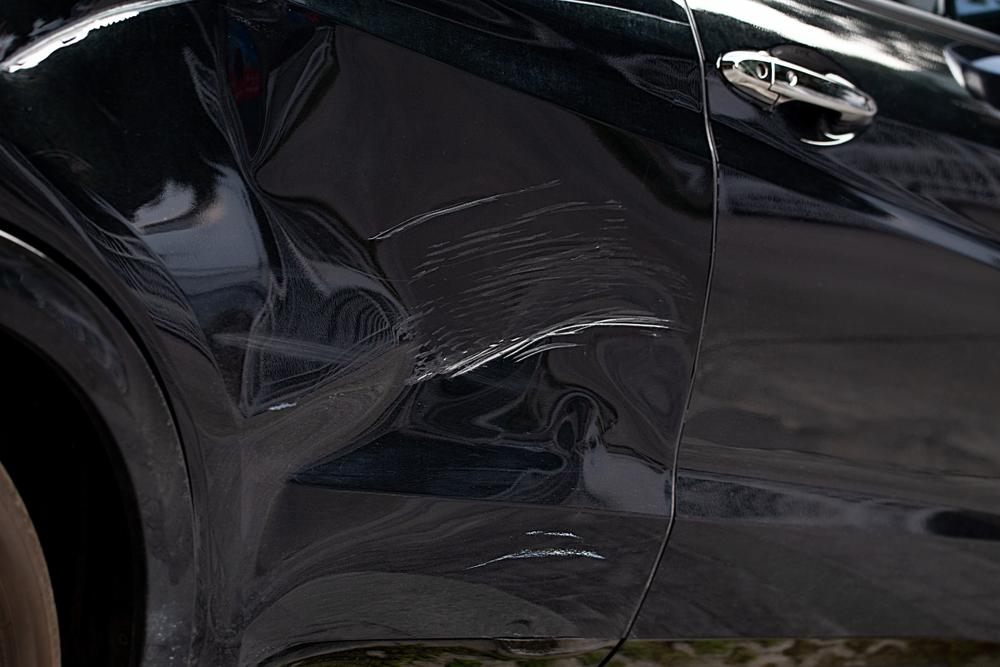dent: (183, 0, 620, 658)
scratch: (359, 178, 696, 355)
